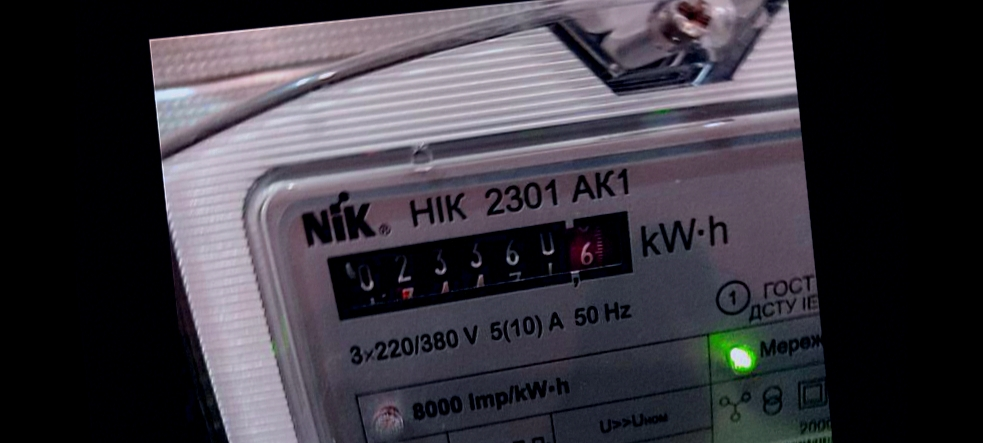0: (353, 258, 378, 294), (534, 226, 559, 259)
2: (391, 250, 414, 284)
3: (464, 235, 486, 270), (427, 245, 449, 278)
6: (499, 234, 523, 269), (575, 235, 599, 270)
screen: (308, 200, 654, 328)
